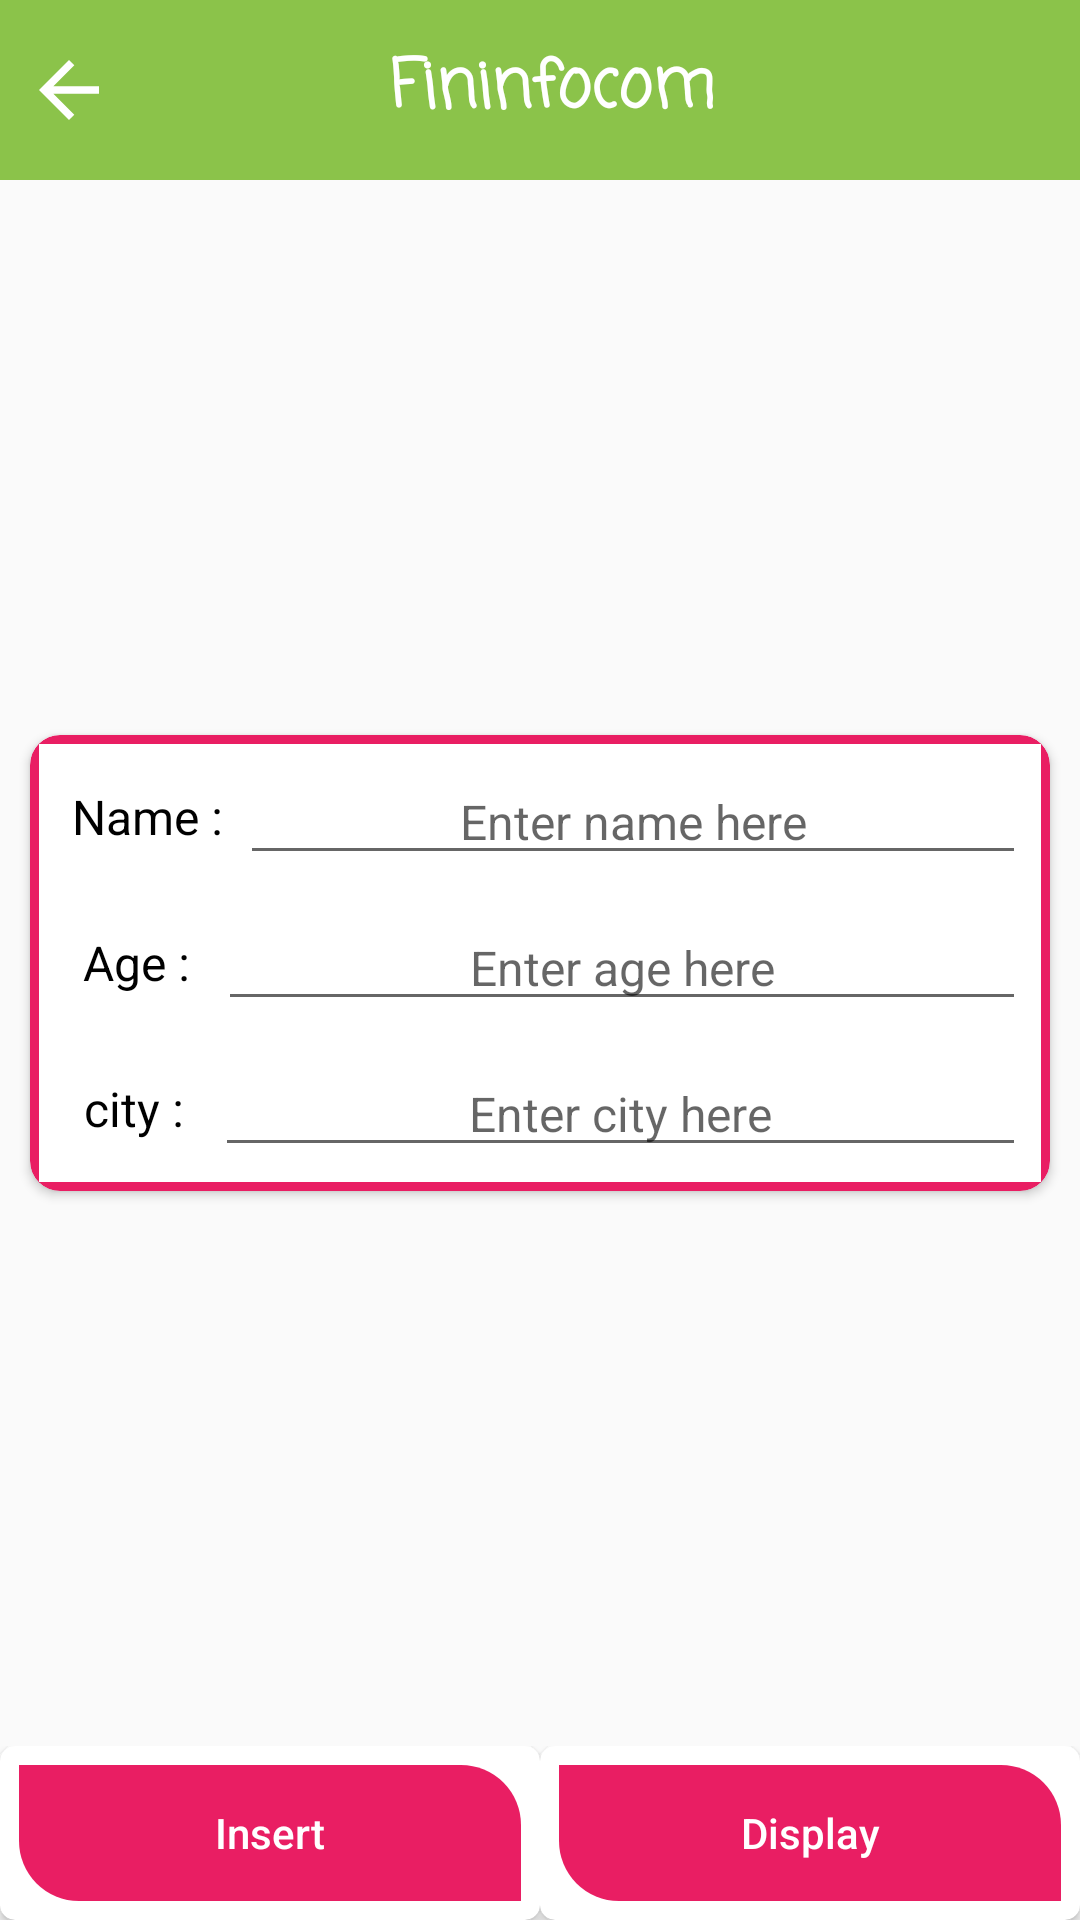

Icons on this 1080×1920 Android screen, each with its box as (x1, y1, x2, y2):
back: (39, 60, 99, 120)
